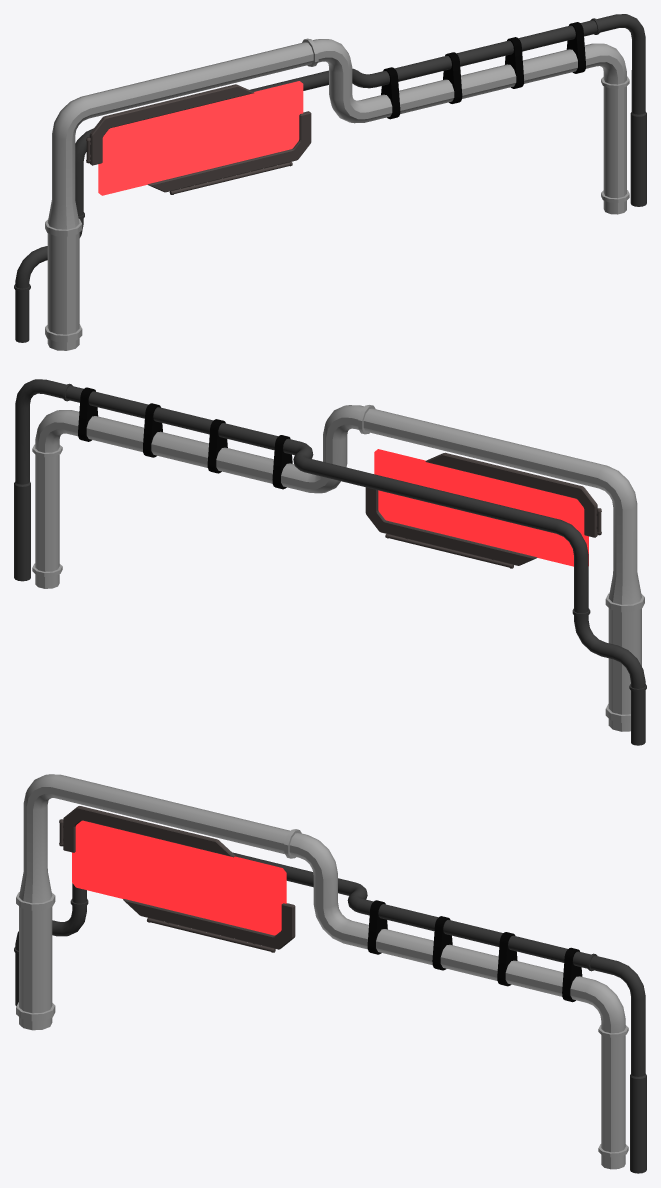
The model's file is Obstacle_pipes.fbx.
The picture shows the model from 3 angles, top to bottom: view 1: azimuth 30°, elevation 25°; view 2: azimuth 150°, elevation 25°; view 3: azimuth 330°, elevation 25°; orthographic projection. The views are drawn at different scales.
Visible parts, largest first — view 1: Pipes; view 2: Pipes; view 3: Pipes.
Part boxes in pixels (<box>): Pipes: <box>14,14,646,350</box>; Pipes: <box>14,379,646,745</box>; Pipes: <box>14,774,646,1173</box>.
Bounding box in the file's own units: 304 × 115 × 23.65.
